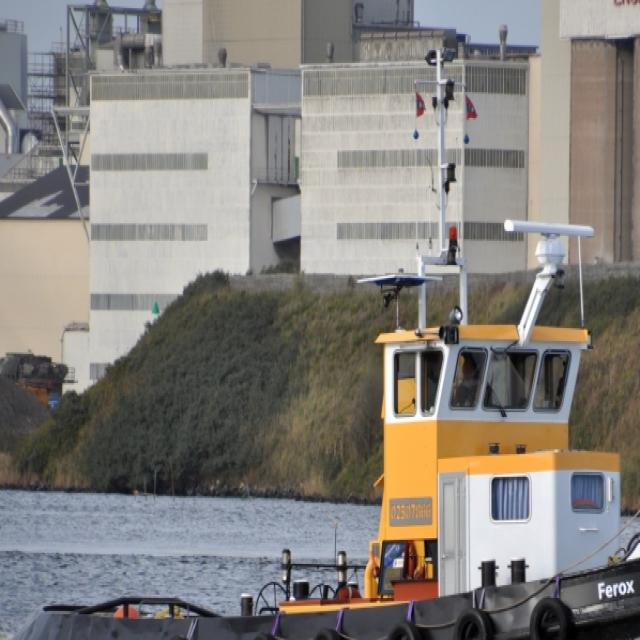tugboat: (1, 51, 640, 640)
